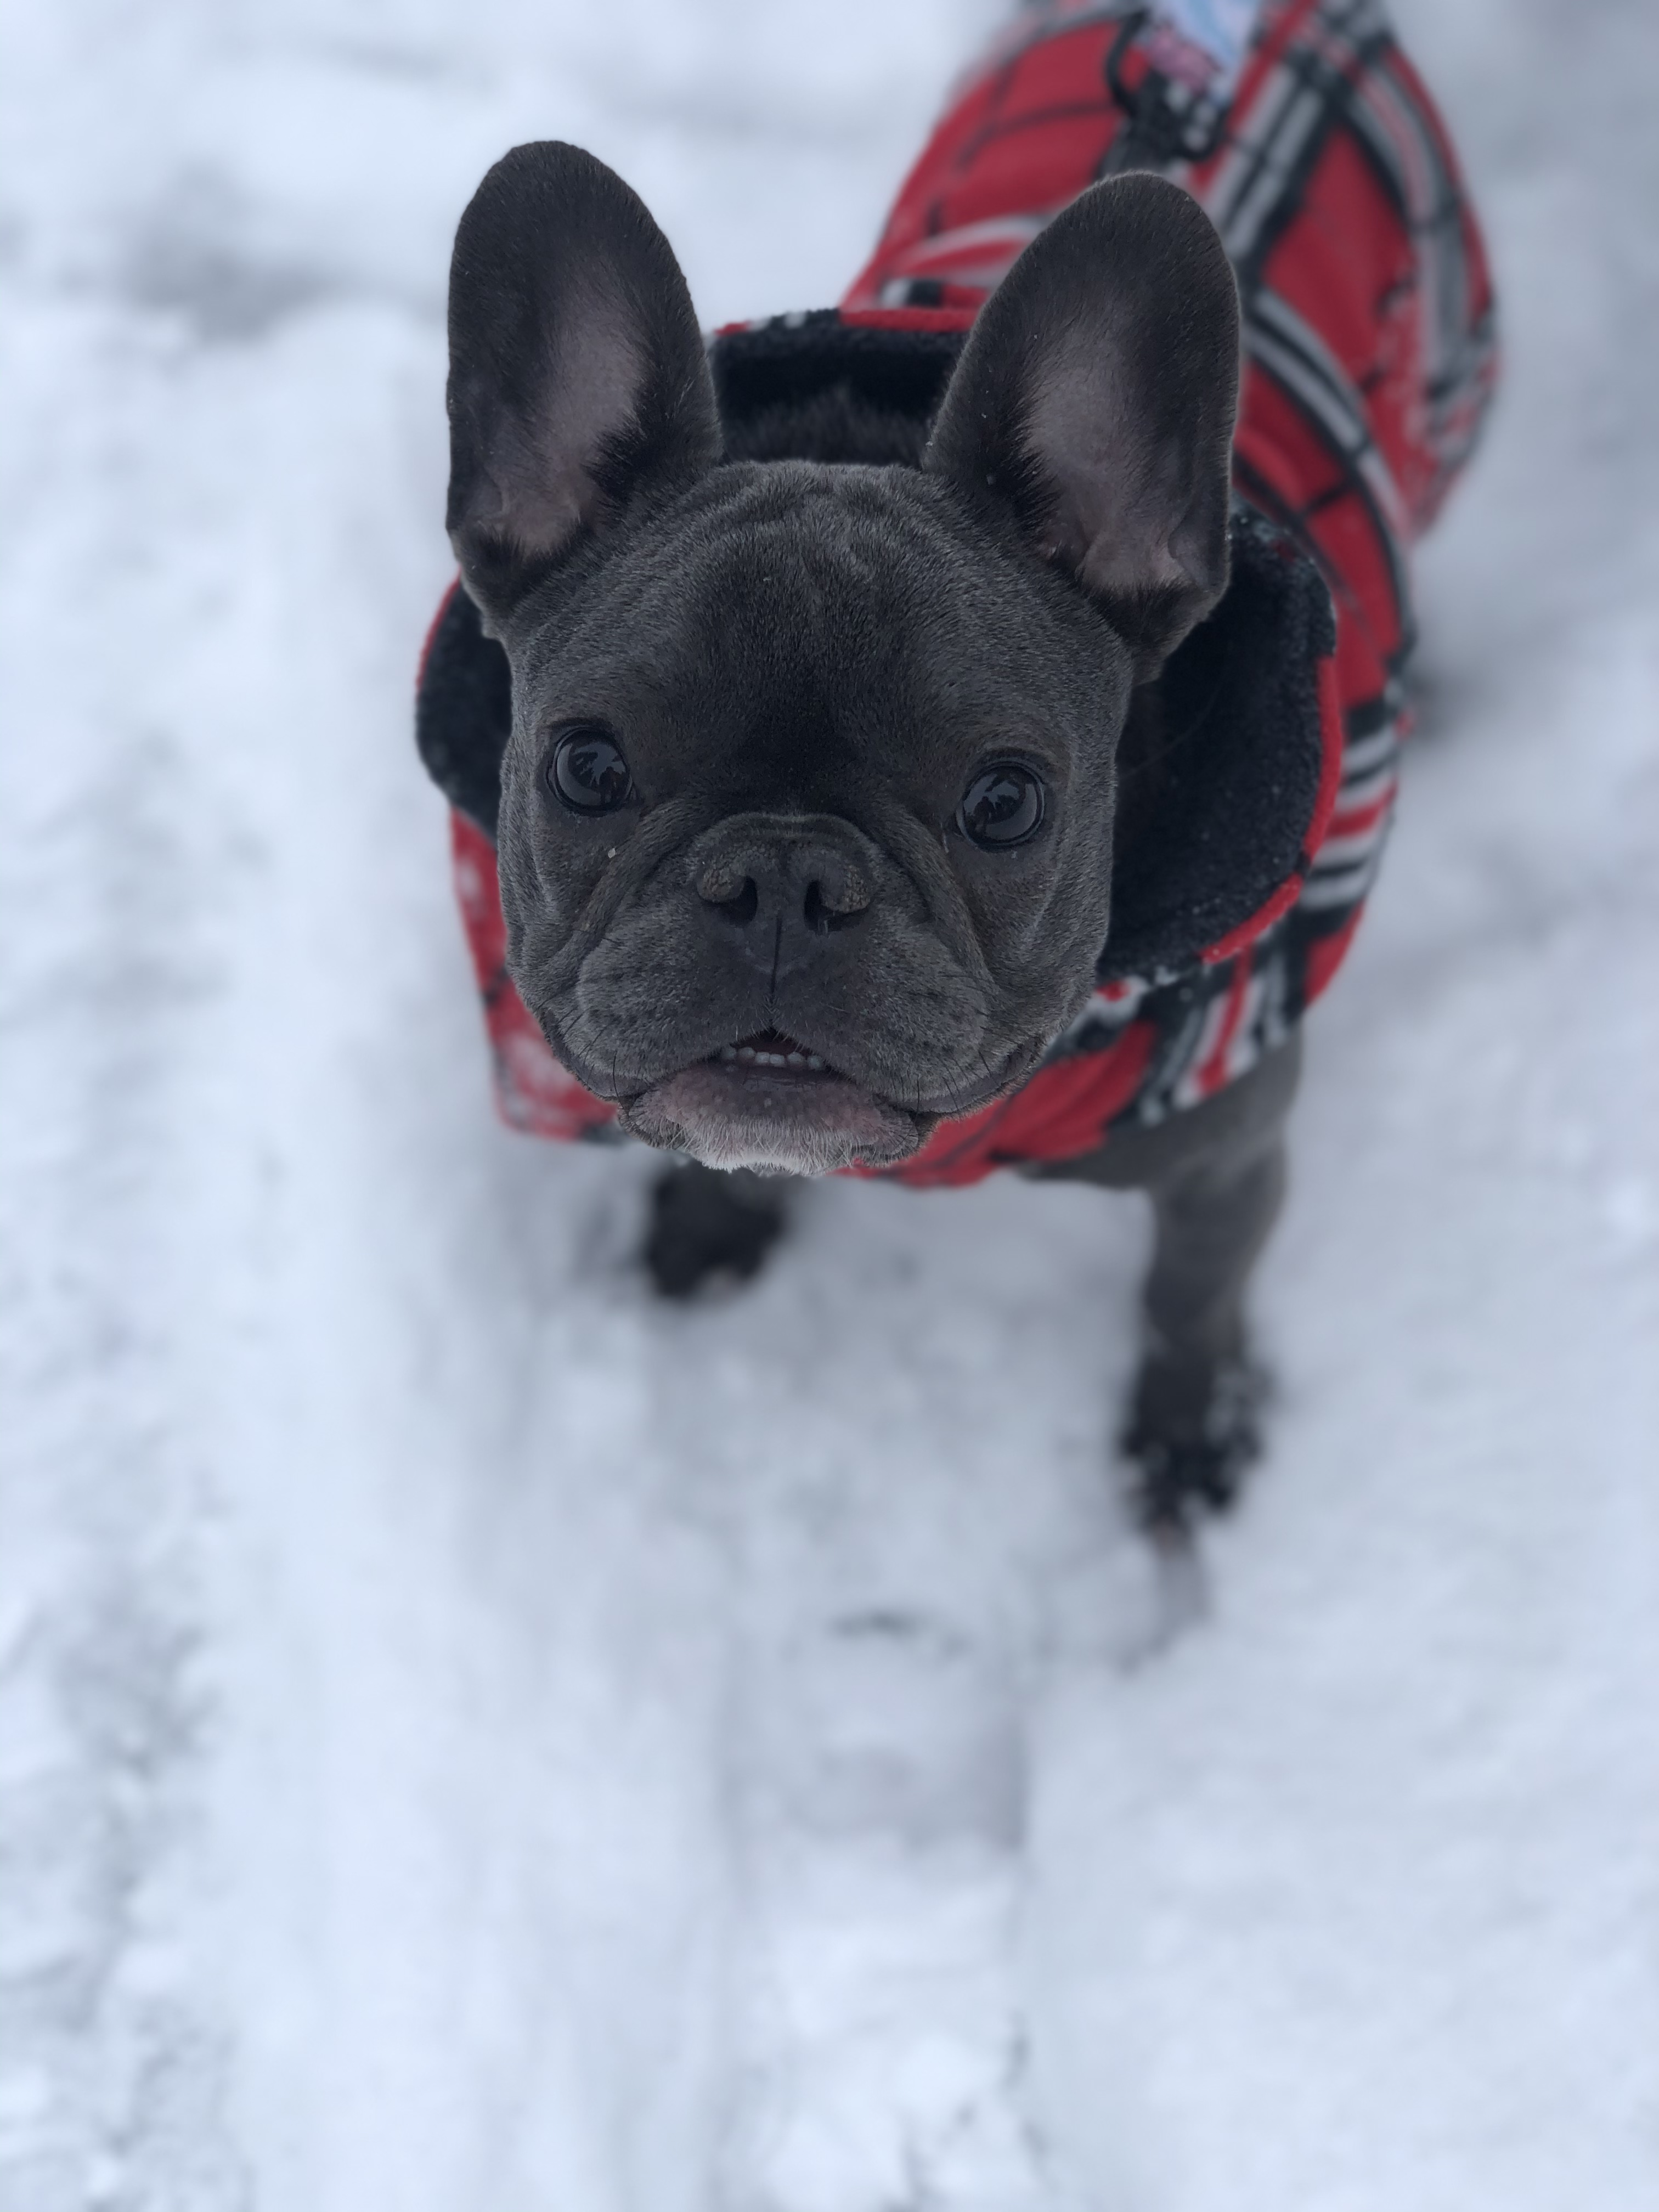lucy: (394, 24, 1493, 1538)
